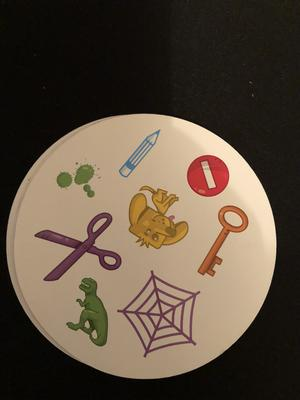chien: (126, 184, 191, 251)
ciseau: (29, 211, 123, 283)
cle: (196, 205, 251, 277)
crayon: (117, 127, 163, 179)
dinosore: (64, 275, 110, 348)
sens_interdit: (184, 152, 231, 198)
tache: (54, 155, 103, 200)
toile: (116, 268, 202, 358)
